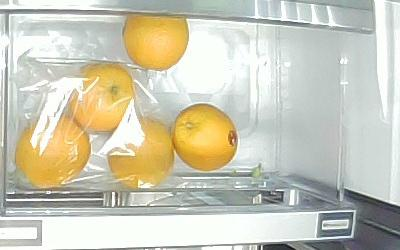orange: (173, 103, 239, 171), (122, 13, 190, 71)
orange_vinyl: (15, 114, 91, 188), (67, 63, 137, 134), (107, 116, 175, 189)
